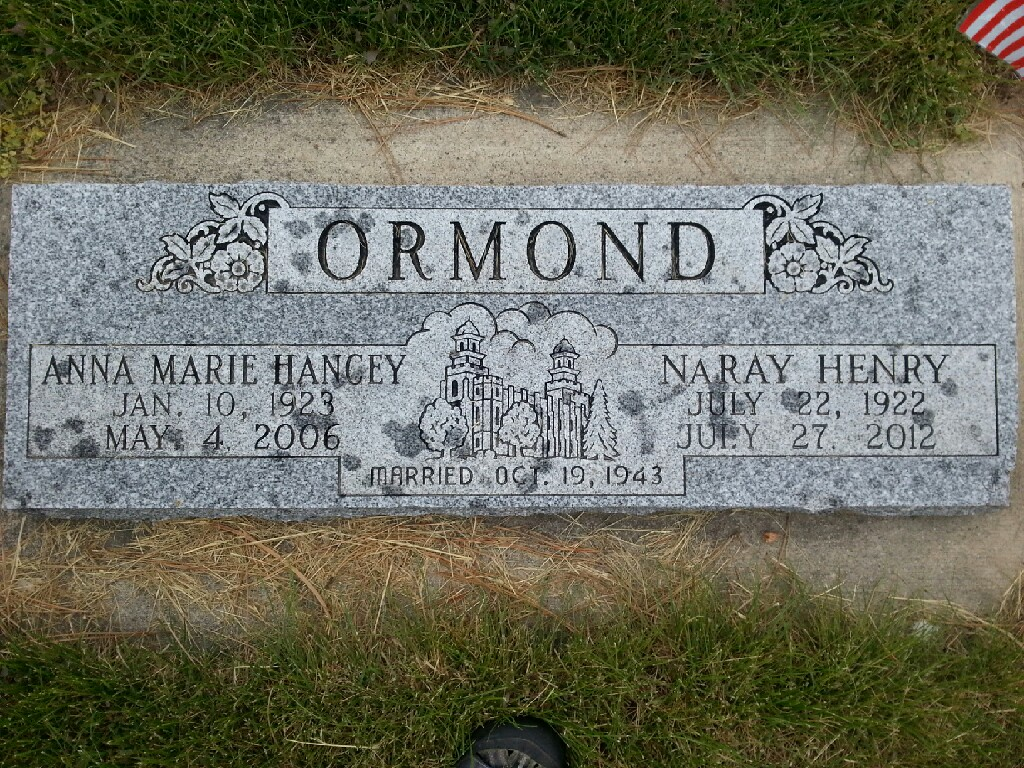flat: (4, 172, 1020, 517)
